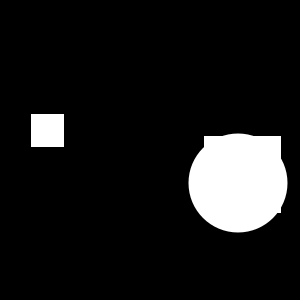circle: (204, 136, 281, 213), (31, 114, 64, 147)
rectangle: (188, 133, 288, 232)
triangle: (249, 147, 285, 183)
